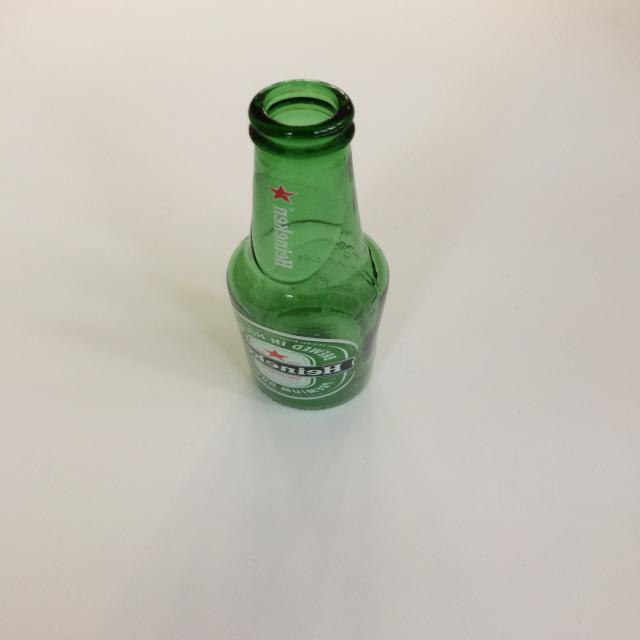glass: (226, 78, 390, 410)
